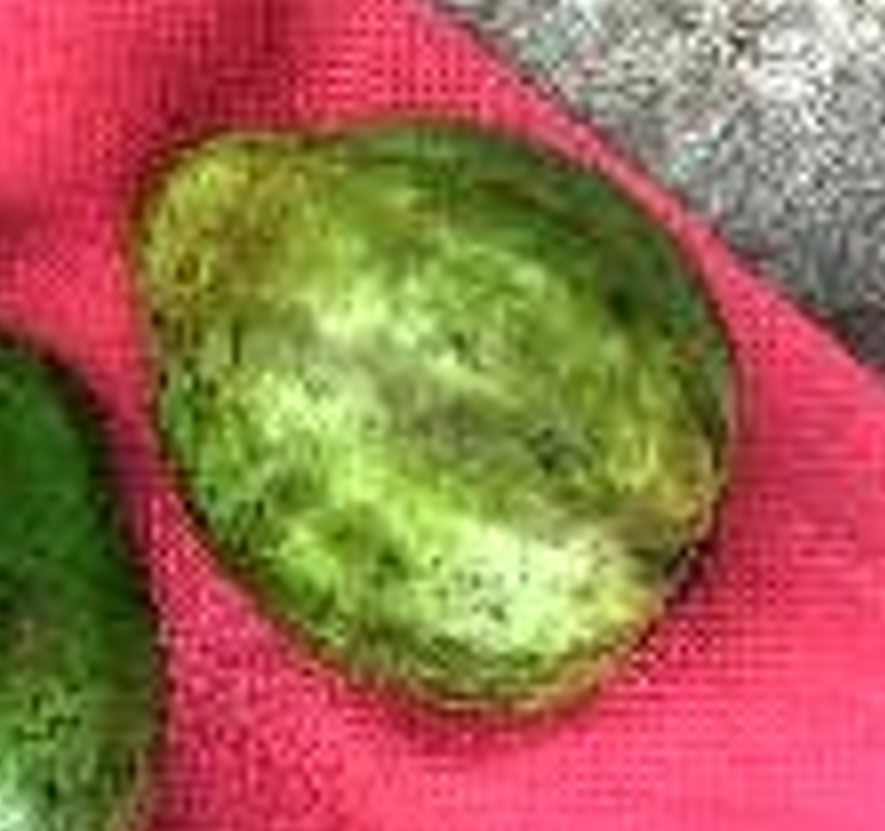guava_B: (128, 121, 739, 715)
